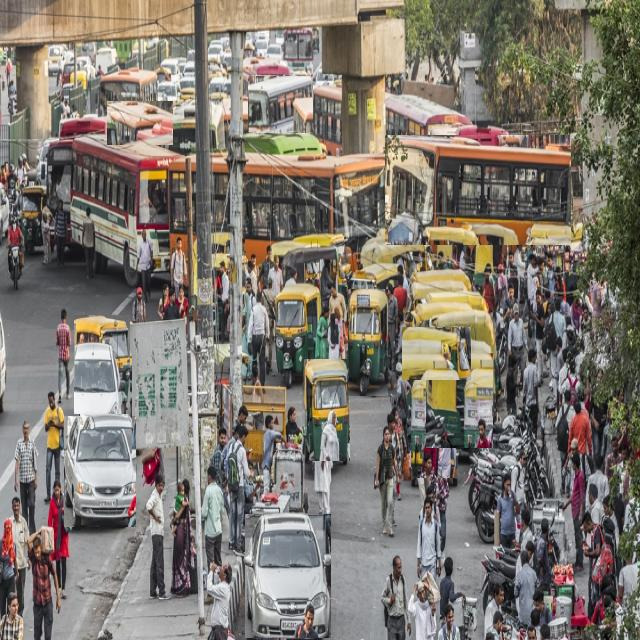autorickshaw: (427, 354, 493, 448), (75, 316, 130, 414), (411, 369, 456, 478), (302, 360, 350, 461), (276, 285, 321, 386), (349, 289, 388, 396), (402, 327, 471, 380)
bus: (385, 135, 571, 245), (71, 136, 176, 286), (242, 151, 389, 258), (249, 76, 313, 133), (108, 102, 173, 145), (99, 69, 158, 115)
car: (245, 514, 331, 638), (64, 416, 136, 527), (80, 342, 132, 429)
